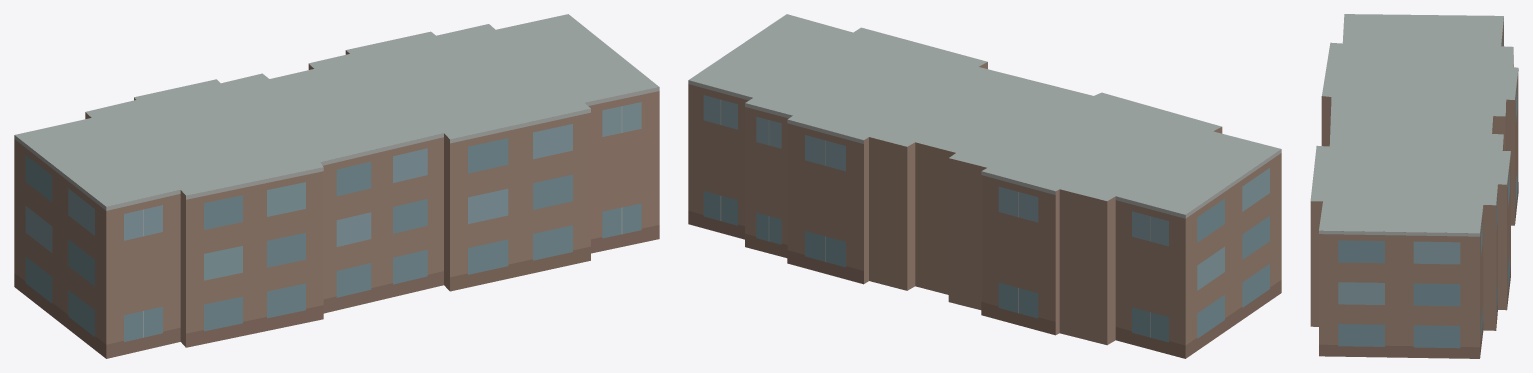
File: survey-upis-32945537.glb
3 renders of one model, left to right at view 1: azimuth 30°, elevation 25°; view 2: azimuth 150°, elevation 25°; view 3: azimuth 270°, elevation 25°, orthographic. The views are drawn at different scales.
Visible parts, largest first — view 1: survey-upis-32945537.tmp; view 2: survey-upis-32945537.tmp; view 3: survey-upis-32945537.tmp.
Boxes of the visible parts, left/top/right/bottom form: survey-upis-32945537.tmp: left=14, top=14, right=659, bottom=358; survey-upis-32945537.tmp: left=688, top=14, right=1281, bottom=358; survey-upis-32945537.tmp: left=1310, top=14, right=1518, bottom=358.
Size of the model in its own units: 34.28 by 9.15 by 13.74.
